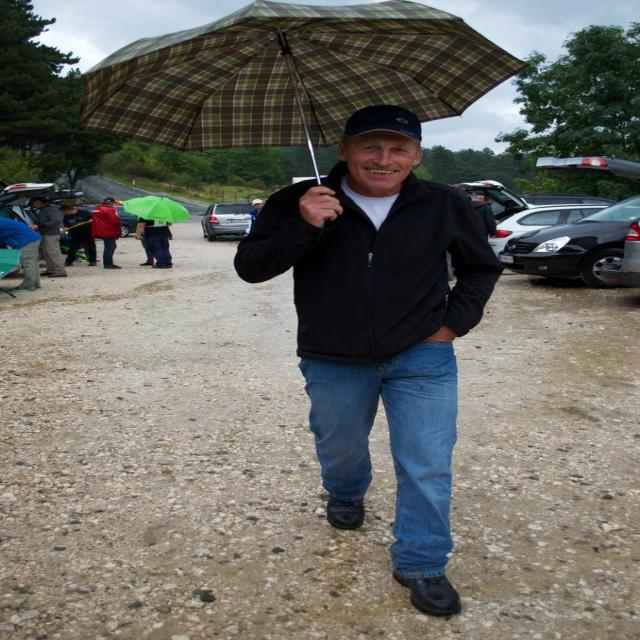other: (448, 180, 634, 258), (494, 190, 636, 288), (534, 157, 638, 285), (0, 183, 57, 275), (14, 192, 82, 258), (479, 193, 616, 216), (197, 193, 255, 241), (76, 202, 138, 237)
